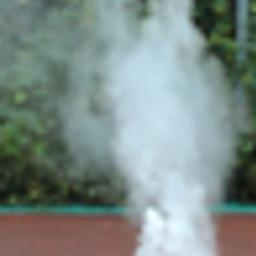smoke: (1, 0, 248, 255)
